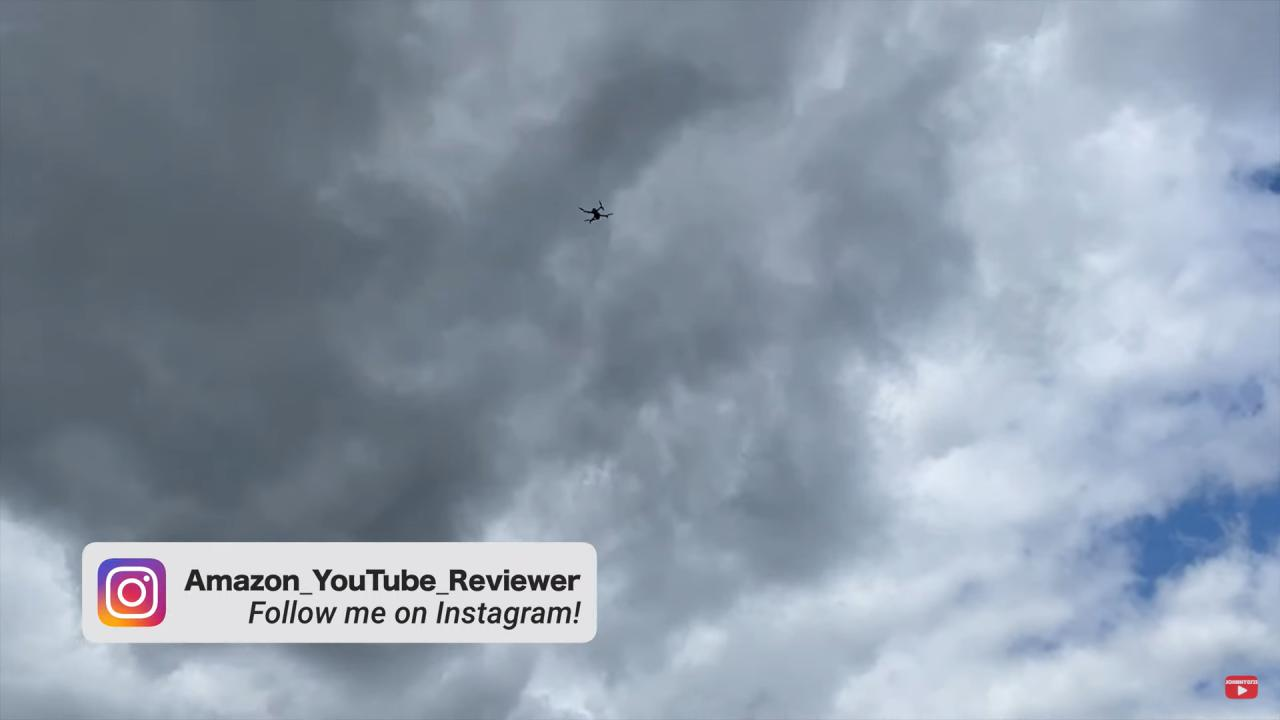Drone: (570, 192, 626, 234)
